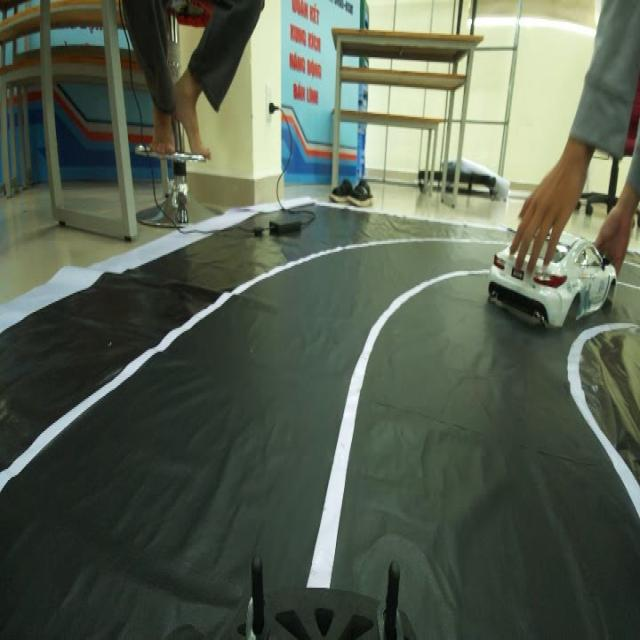car: (496, 225, 616, 320)
